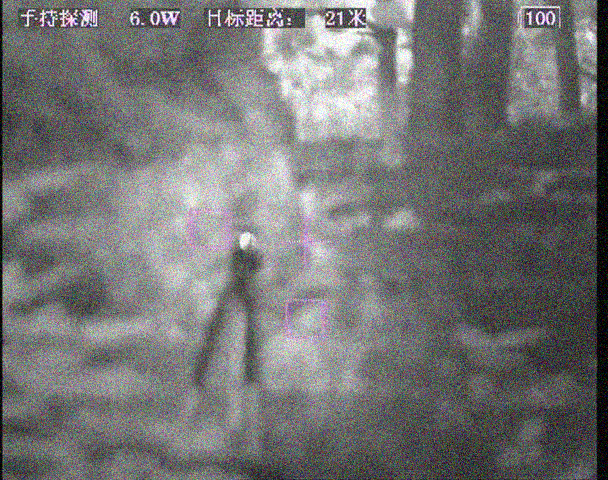my: (237, 230, 257, 251)
